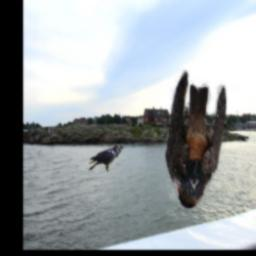Crow: (88, 145, 123, 173)
Swallow: (165, 70, 227, 209)
